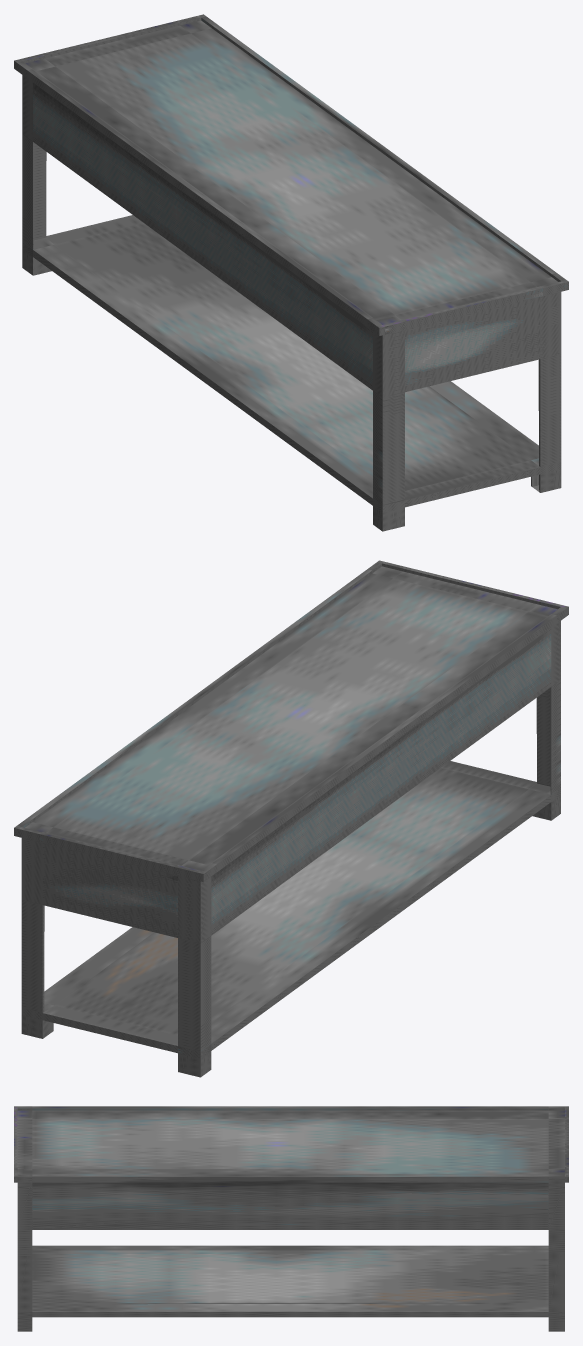
The model's file is table.fbx.
3 views of the same model, one above another, from view 1: azimuth 30°, elevation 25°; view 2: azimuth 150°, elevation 25°; view 3: azimuth 270°, elevation 25° (orthographic). The views are drawn at different scales.
Parts seen in each view (by area): view 1: table; view 2: table; view 3: table.
Boxes of the visible parts, box(x1,y1,x2,y2) form: table: box(14, 14, 568, 531); table: box(14, 560, 568, 1077); table: box(14, 1106, 568, 1331).
Bounding box in the file's own units: 509 × 530 × 1698.
